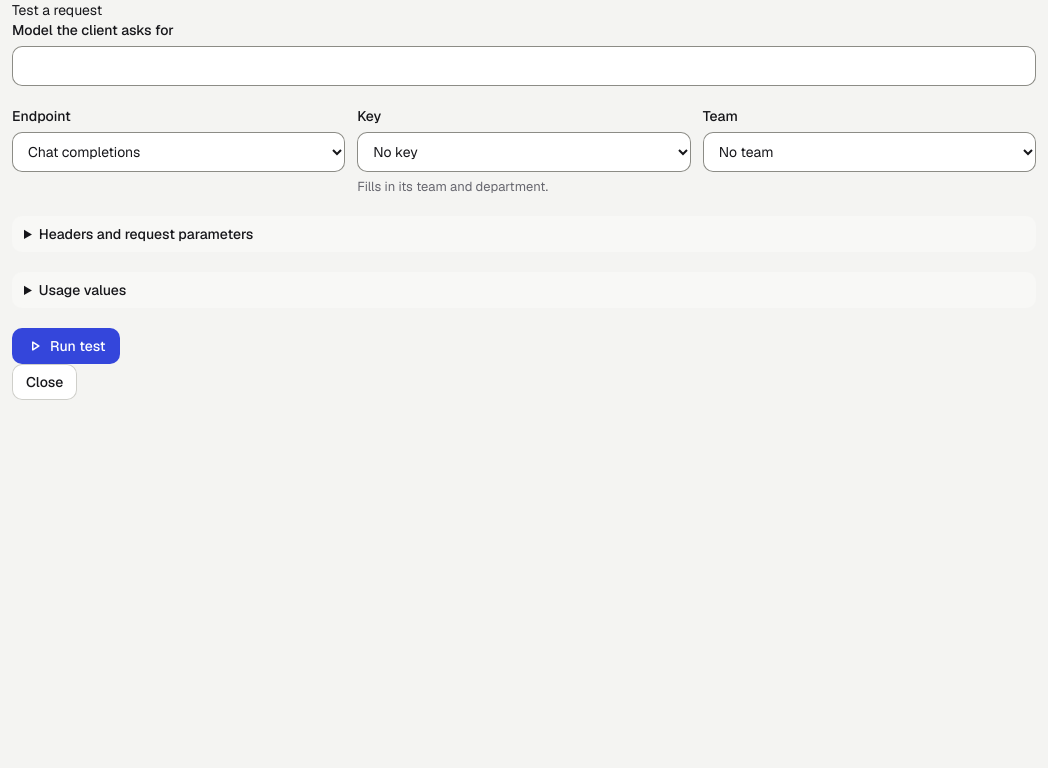
Scenario: RuleTestDialog › shows true, false and "could not be evaluated" as words, not only as colour
Type "gpt-4" into the field with id "test-model" at (524, 66), box 12,46 -> 1036,86
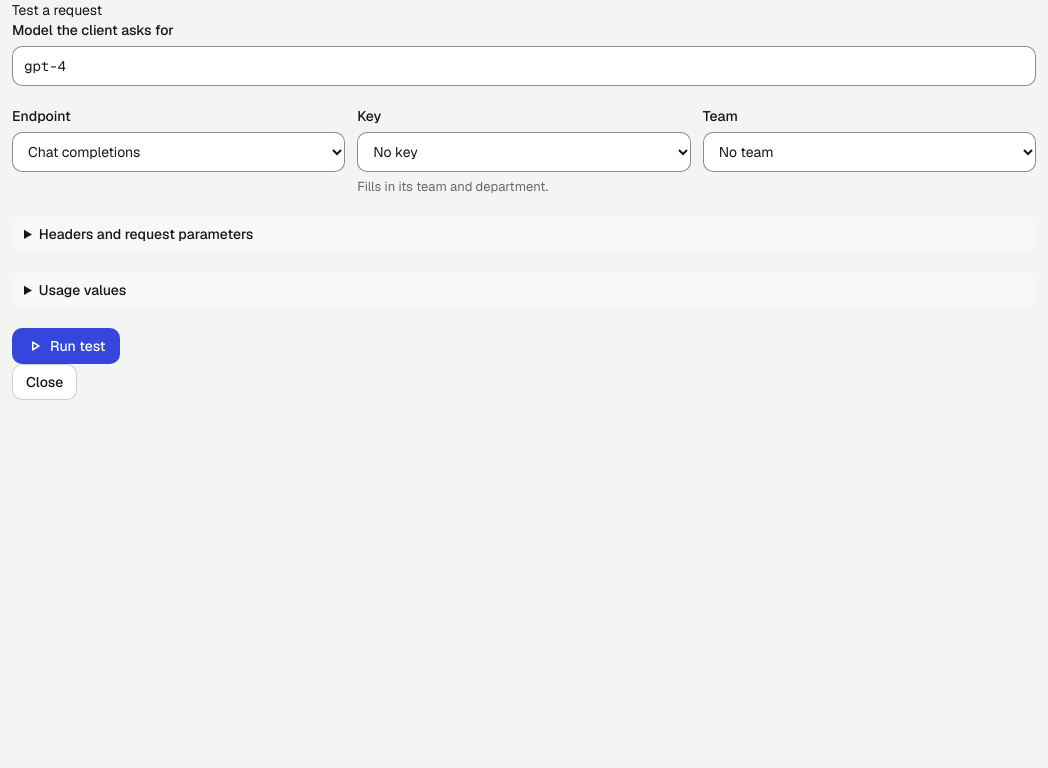
Submit the form, box 12,20 -> 1036,364
(page scrolled)
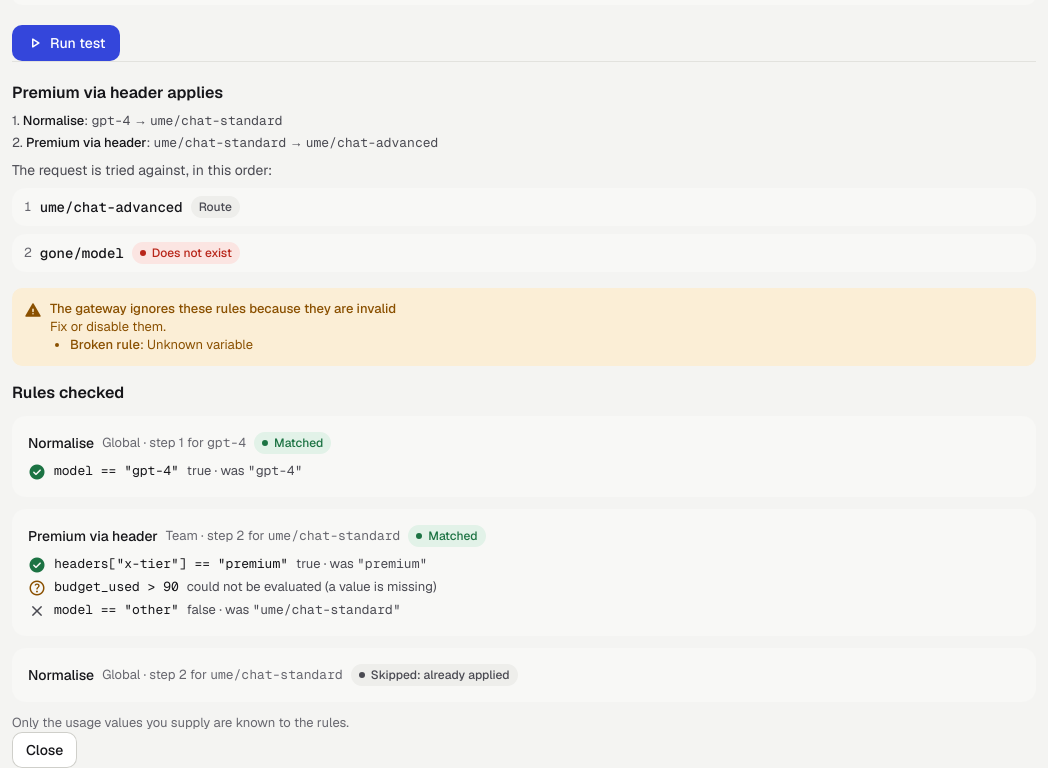
Expected: the list item "headers[\"x-tier\"] == \"premium\" true · was \"premium\"" is shown, 28,554 -> 427,576
Expected: the list item "budget_used > 90 could not be evaluated (a value is missing)" is shown, 28,577 -> 436,599
Expected: the list item "model == \"other\" false · was \"ume/chat-standard\"" is shown, 28,600 -> 401,622
